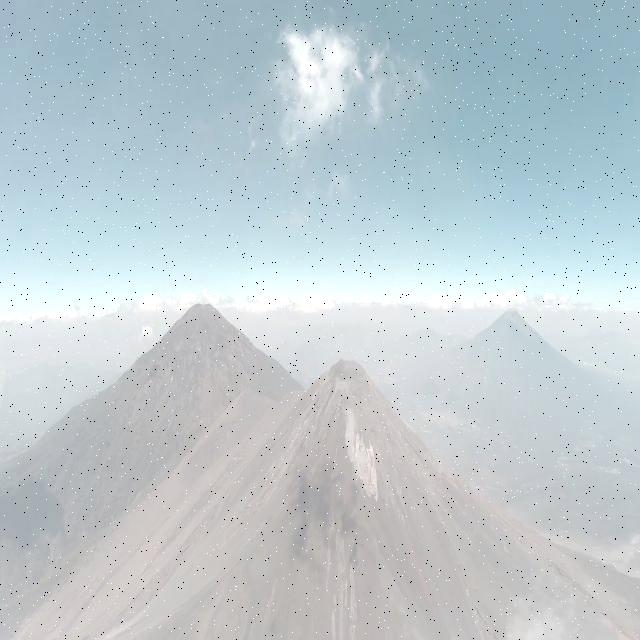Summit: (274, 351, 430, 504)
